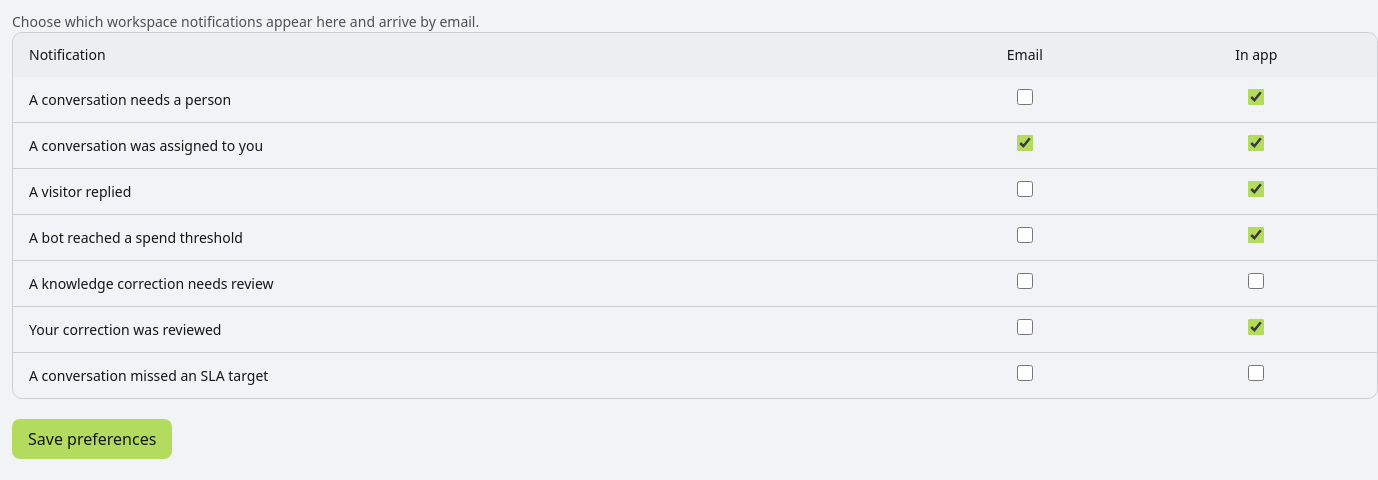
Test case: PreferencesForm › shows role defaults and saves updated channel preferences
The width and height of the screenshot is (1378, 480).
Expected: the checkbox named "A conversation needs a person — In app" is checked, [1248,89,1264,105]
Click the checkbox named "A conversation needs a person — Email" at (1025, 97), box [1017,89,1033,105]
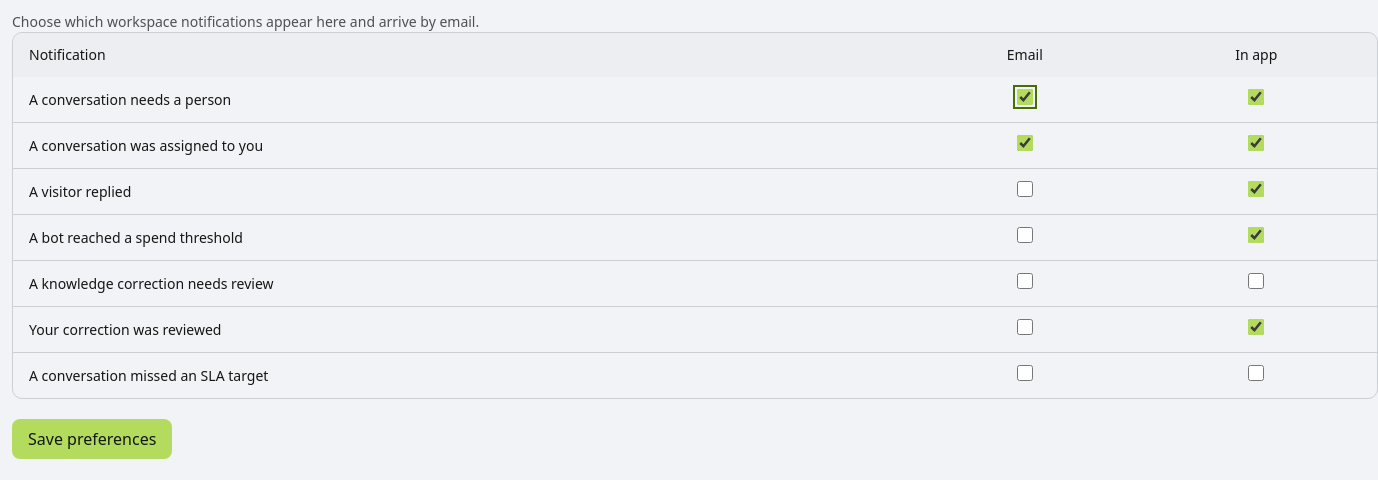
Click the button "Save preferences" at (92, 439), box [12,419,172,459]
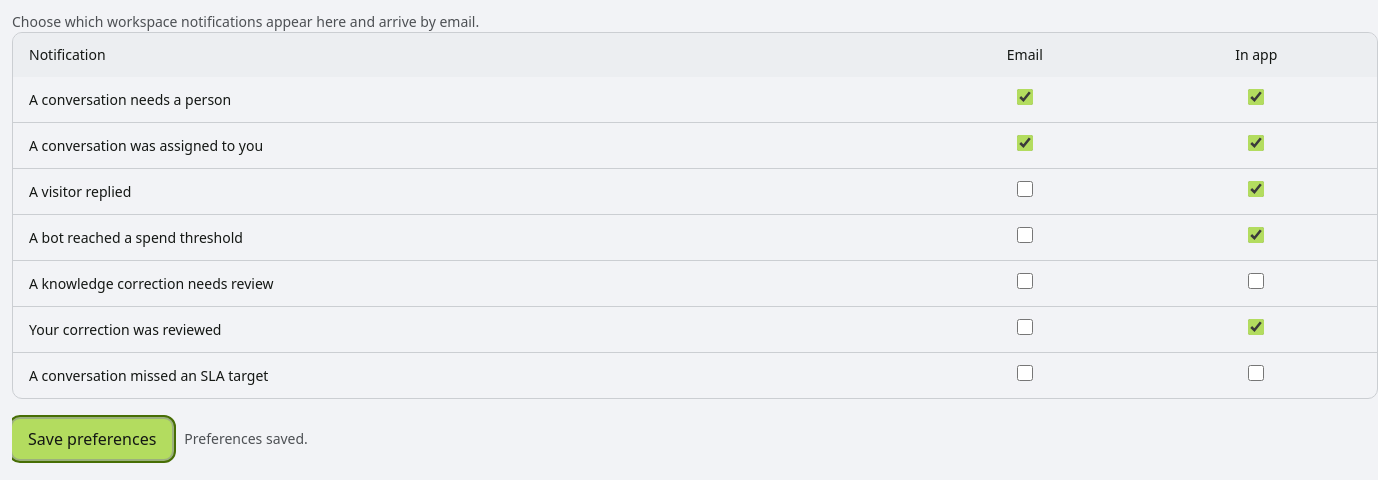
Expected: the message reads "Preferences saved.", [184,429,308,448]
